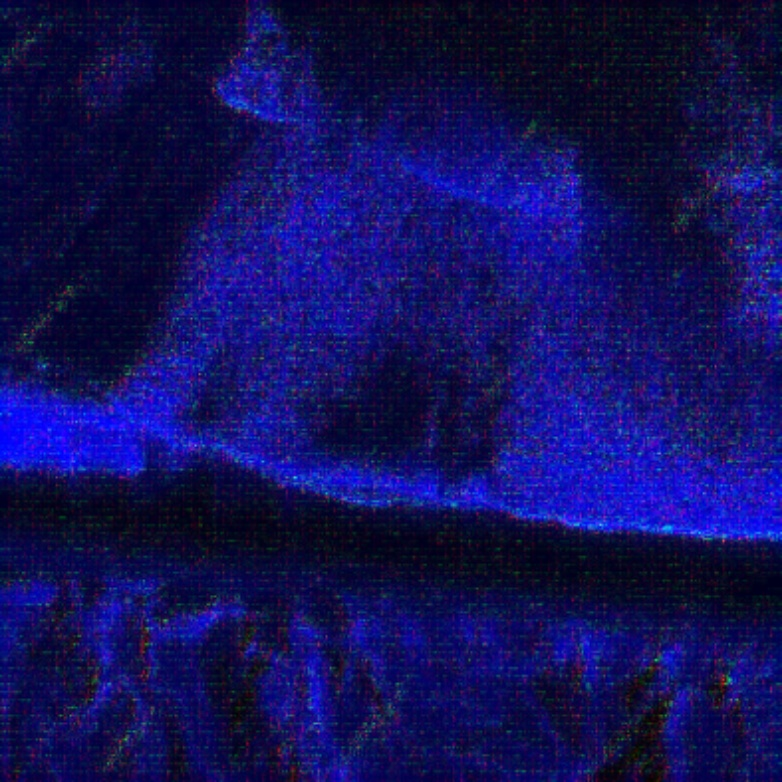rip_current: (322, 70, 576, 515)
